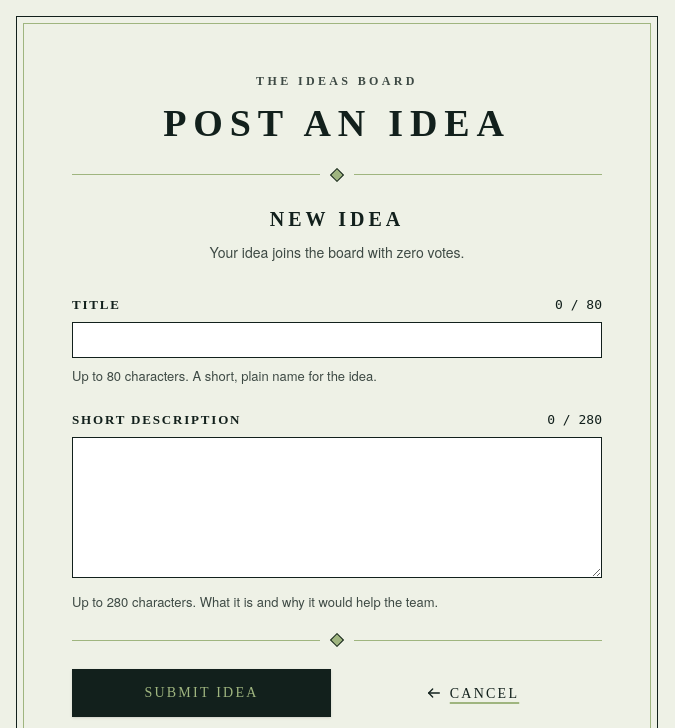
it: Post an Idea › [AC-022] shows which field is missing and saves nothing
Click the button with test id "submit-idea-btn": point(202, 693) [72,669,331,717]
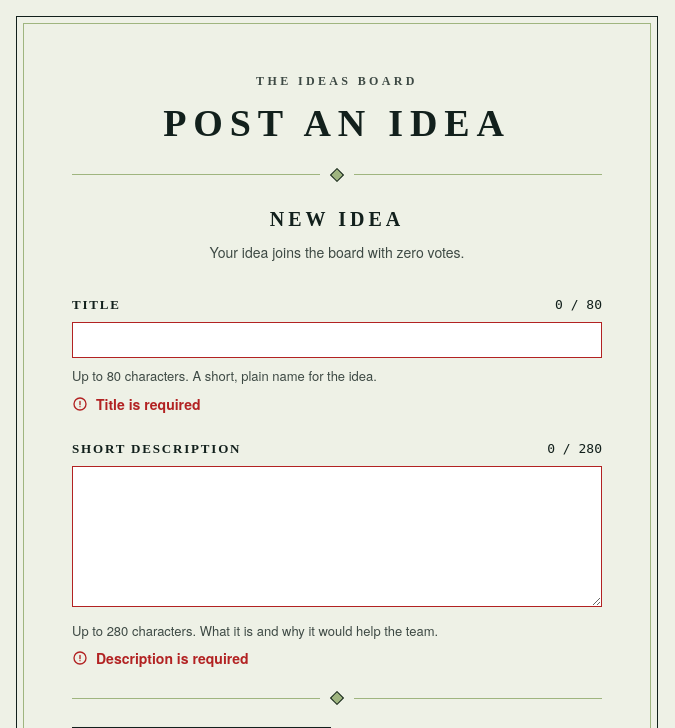
expect the text "Title is required" is shown: met, box [96,394,200,415]
expect the text "Description is required" is shown: met, box [96,648,249,669]
